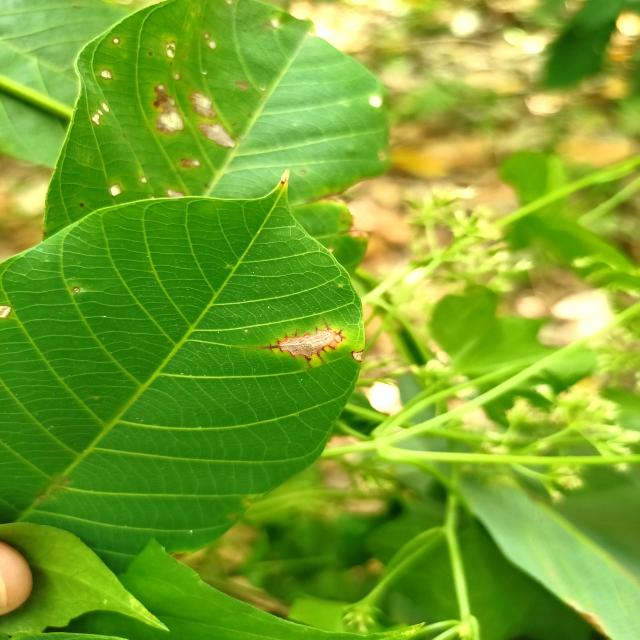Colletotrichum: (100, 68, 113, 80), (112, 37, 121, 45), (73, 286, 80, 292), (79, 203, 84, 207)
Corynespora: (260, 317, 347, 368)
Leaf-Blight: (280, 329, 338, 357), (154, 84, 184, 135), (199, 123, 235, 148), (189, 91, 217, 118), (0, 305, 12, 318), (280, 169, 290, 184), (352, 350, 364, 362), (110, 184, 122, 196), (167, 190, 184, 198), (92, 114, 101, 125), (102, 102, 110, 112), (98, 109, 104, 115)
